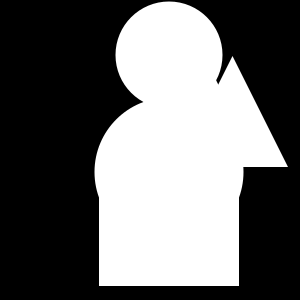circle: (99, 146, 239, 286)
rectangle: (95, 98, 244, 246), (116, 1, 222, 109)
triangle: (177, 56, 288, 167), (166, 66, 252, 152)
